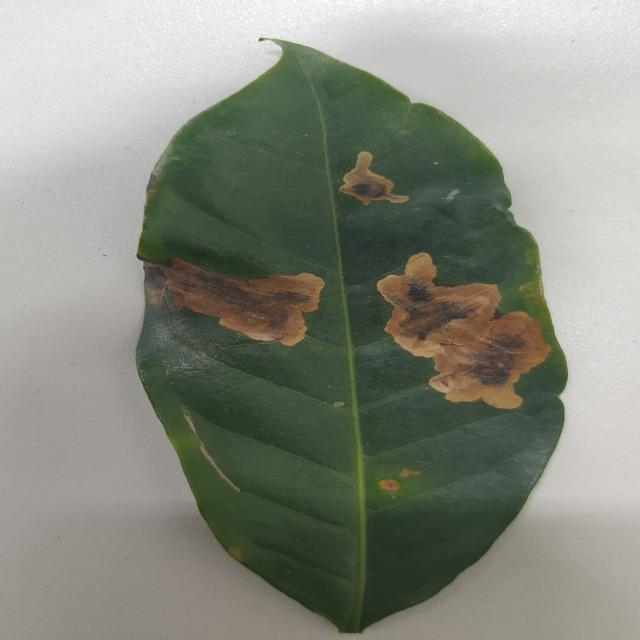Plaga-Minador: (134, 40, 569, 636)
